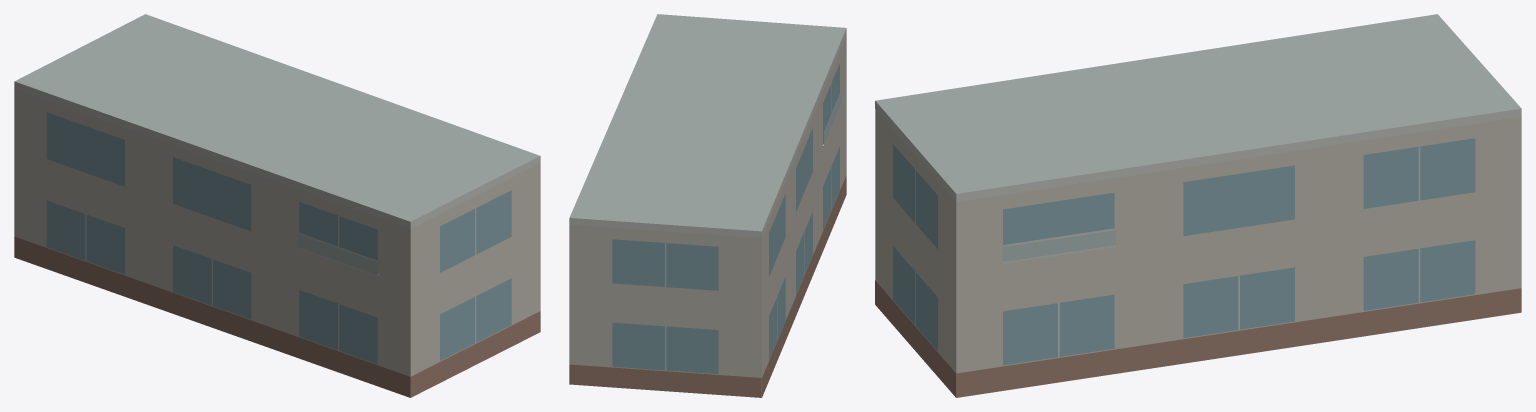
The model's file is survey-upis-32491916.glb.
The picture shows the model from 3 angles, left to right: view 1: azimuth 30°, elevation 25°; view 2: azimuth 150°, elevation 25°; view 3: azimuth 270°, elevation 25°; orthographic projection. The views are drawn at different scales.
Parts seen in each view (by area): view 1: survey-upis-32491916.tmp; view 2: survey-upis-32491916.tmp; view 3: survey-upis-32491916.tmp.
Boxes of the visible parts, box(x1,y1,x2,y2) form: survey-upis-32491916.tmp: box(14, 14, 540, 397); survey-upis-32491916.tmp: box(569, 14, 846, 397); survey-upis-32491916.tmp: box(875, 14, 1521, 397).
Size of the model in its own units: 11.55 by 6.1 by 17.53.
